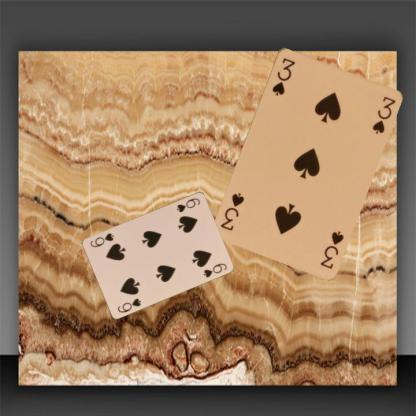3s: (317, 228, 345, 270), (270, 55, 297, 97)
6s: (115, 295, 143, 314), (174, 195, 202, 213)
